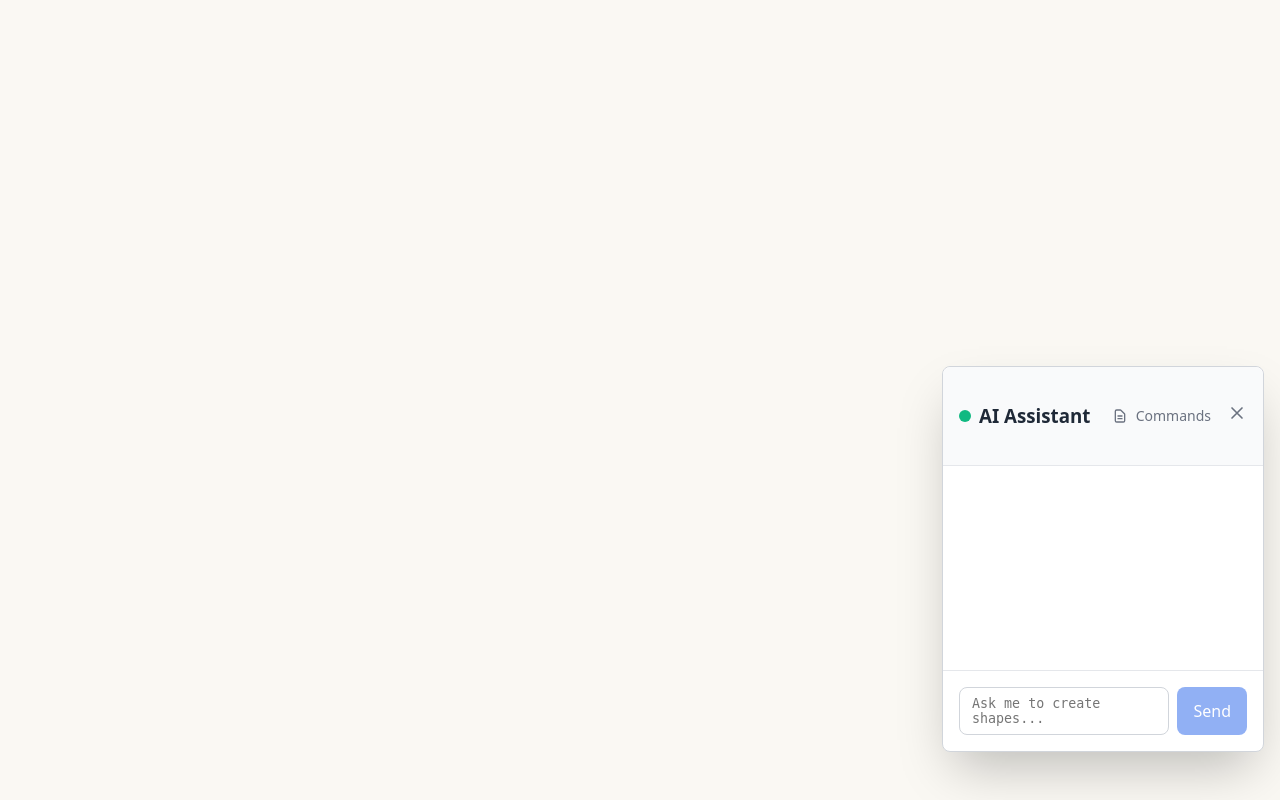
Test: ChatBox Component › shows commands window when commands button is clicked
Click the button titled "show available commands" at (1161, 416), box [1104,398,1219,433]
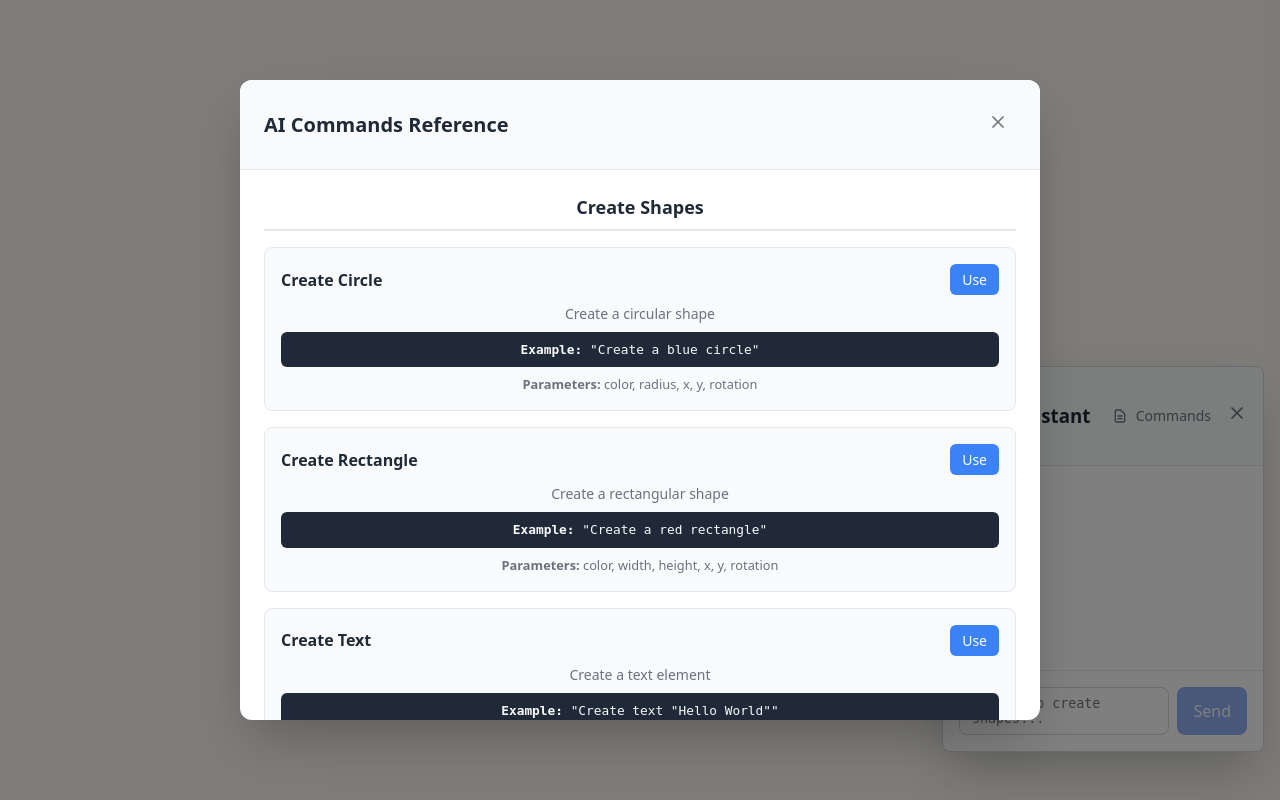
Expected: the heading "Create Shapes" is shown, [264,194,1016,231]
